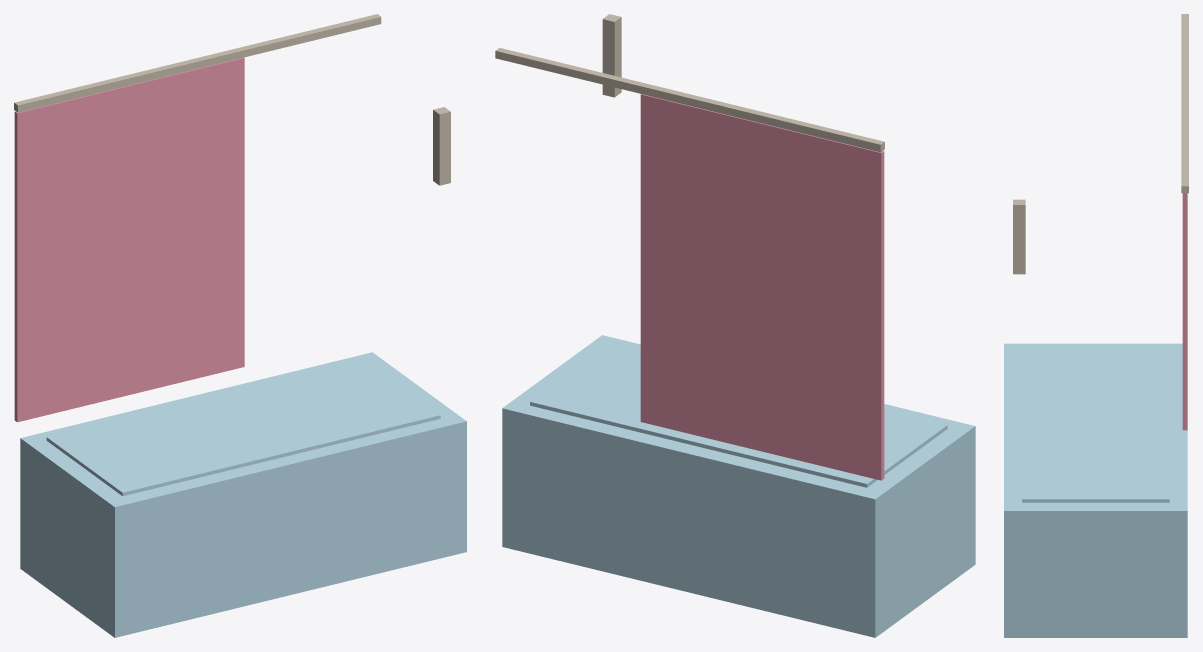
The model's file is tub.glb.
3 views of the same model, side by side, from view 1: azimuth 30°, elevation 25°; view 2: azimuth 150°, elevation 25°; view 3: azimuth 270°, elevation 25° (orthographic). The views are drawn at different scales.
Visible parts, largest first — view 1: Box5, Box1, Box2, Box4, Box3; view 2: Box5, Box1, Box2, Box4, Box3; view 3: Box1, Box2, Box4, Box5, Box3.
Boxes of the visible parts, x1=… form: Box5: x1=14, y1=57, x2=244, y2=422; Box1: x1=20, y1=352, x2=466, y2=637; Box2: x1=46, y1=359, x2=440, y2=496; Box4: x1=14, y1=14, x2=381, y2=112; Box3: x1=433, y1=107, x2=450, y2=185; Box5: x1=640, y1=94, x2=884, y2=480; Box1: x1=502, y1=335, x2=975, y2=637; Box2: x1=530, y1=343, x2=947, y2=487; Box4: x1=495, y1=48, x2=884, y2=152; Box3: x1=602, y1=14, x2=621, y2=97; Box1: x1=1004, y1=343, x2=1187, y2=637; Box2: x1=1022, y1=348, x2=1169, y2=502; Box4: x1=1181, y1=14, x2=1188, y2=193; Box5: x1=1182, y1=193, x2=1187, y2=430; Box3: x1=1013, y1=199, x2=1025, y2=274.
Size of the model in its own units: 1.6 by 1.97 by 0.725.
